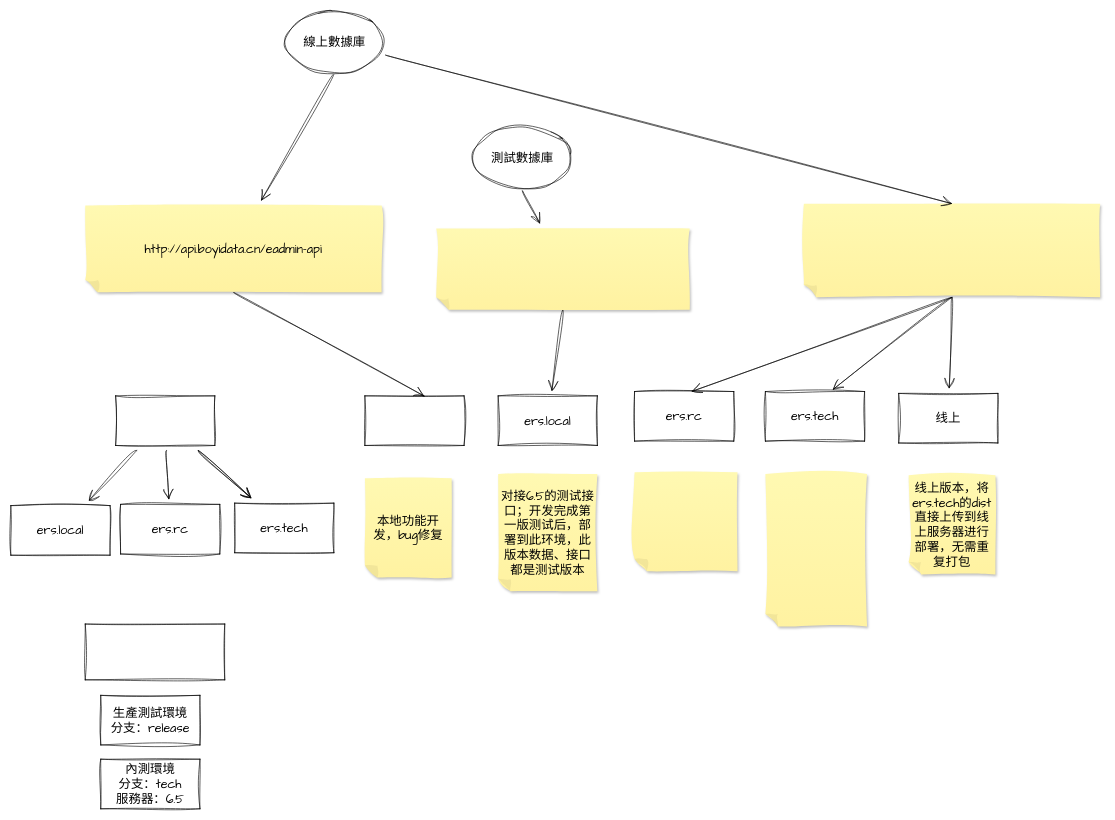
Some shapes in this 1115 by 820 pixel diagram are drawn without their labels. The centre of each missing label's shape, as x and y in pixels:
DiVoMiner: (165,420)
ers.rc测试通过。准备上线阶段， 此环境跟线上的打包命令一直，接口nginx配置也一致。 可以理解为上线前的预览版本: (816,551)
http://ers.local/eadmin-api: (563,270)
https://me.divominer.cn/eadmin-api: (952,251)
在ers.local测试完成后，推送到rc进行测试，此环境对接的是线上接口，线上数据。: (686,522)
开发: (414,420)
線上環境 分支：master 服務器：生產服務器: (155,651)
